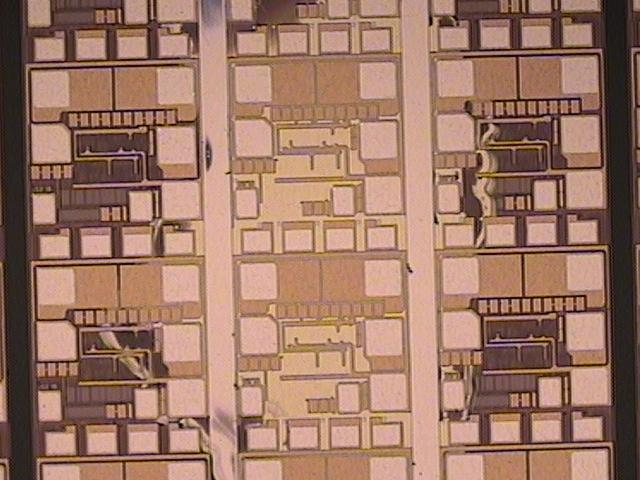COATING BAD: (76, 1, 518, 457)
